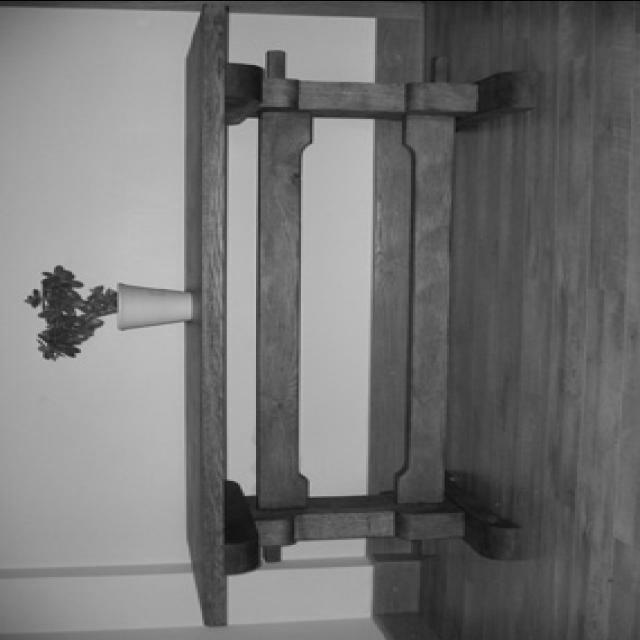table: (184, 1, 542, 629)
